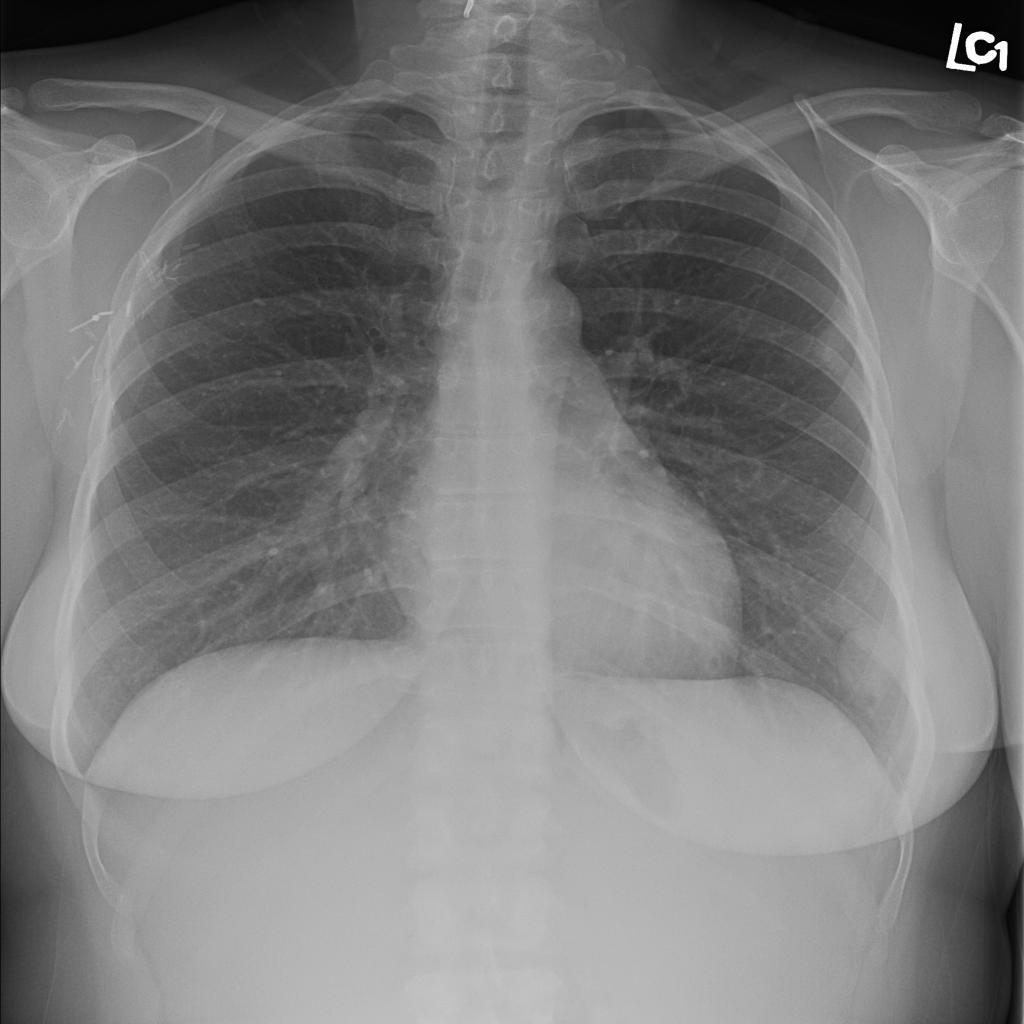Nodule: (473, 156, 509, 191)
